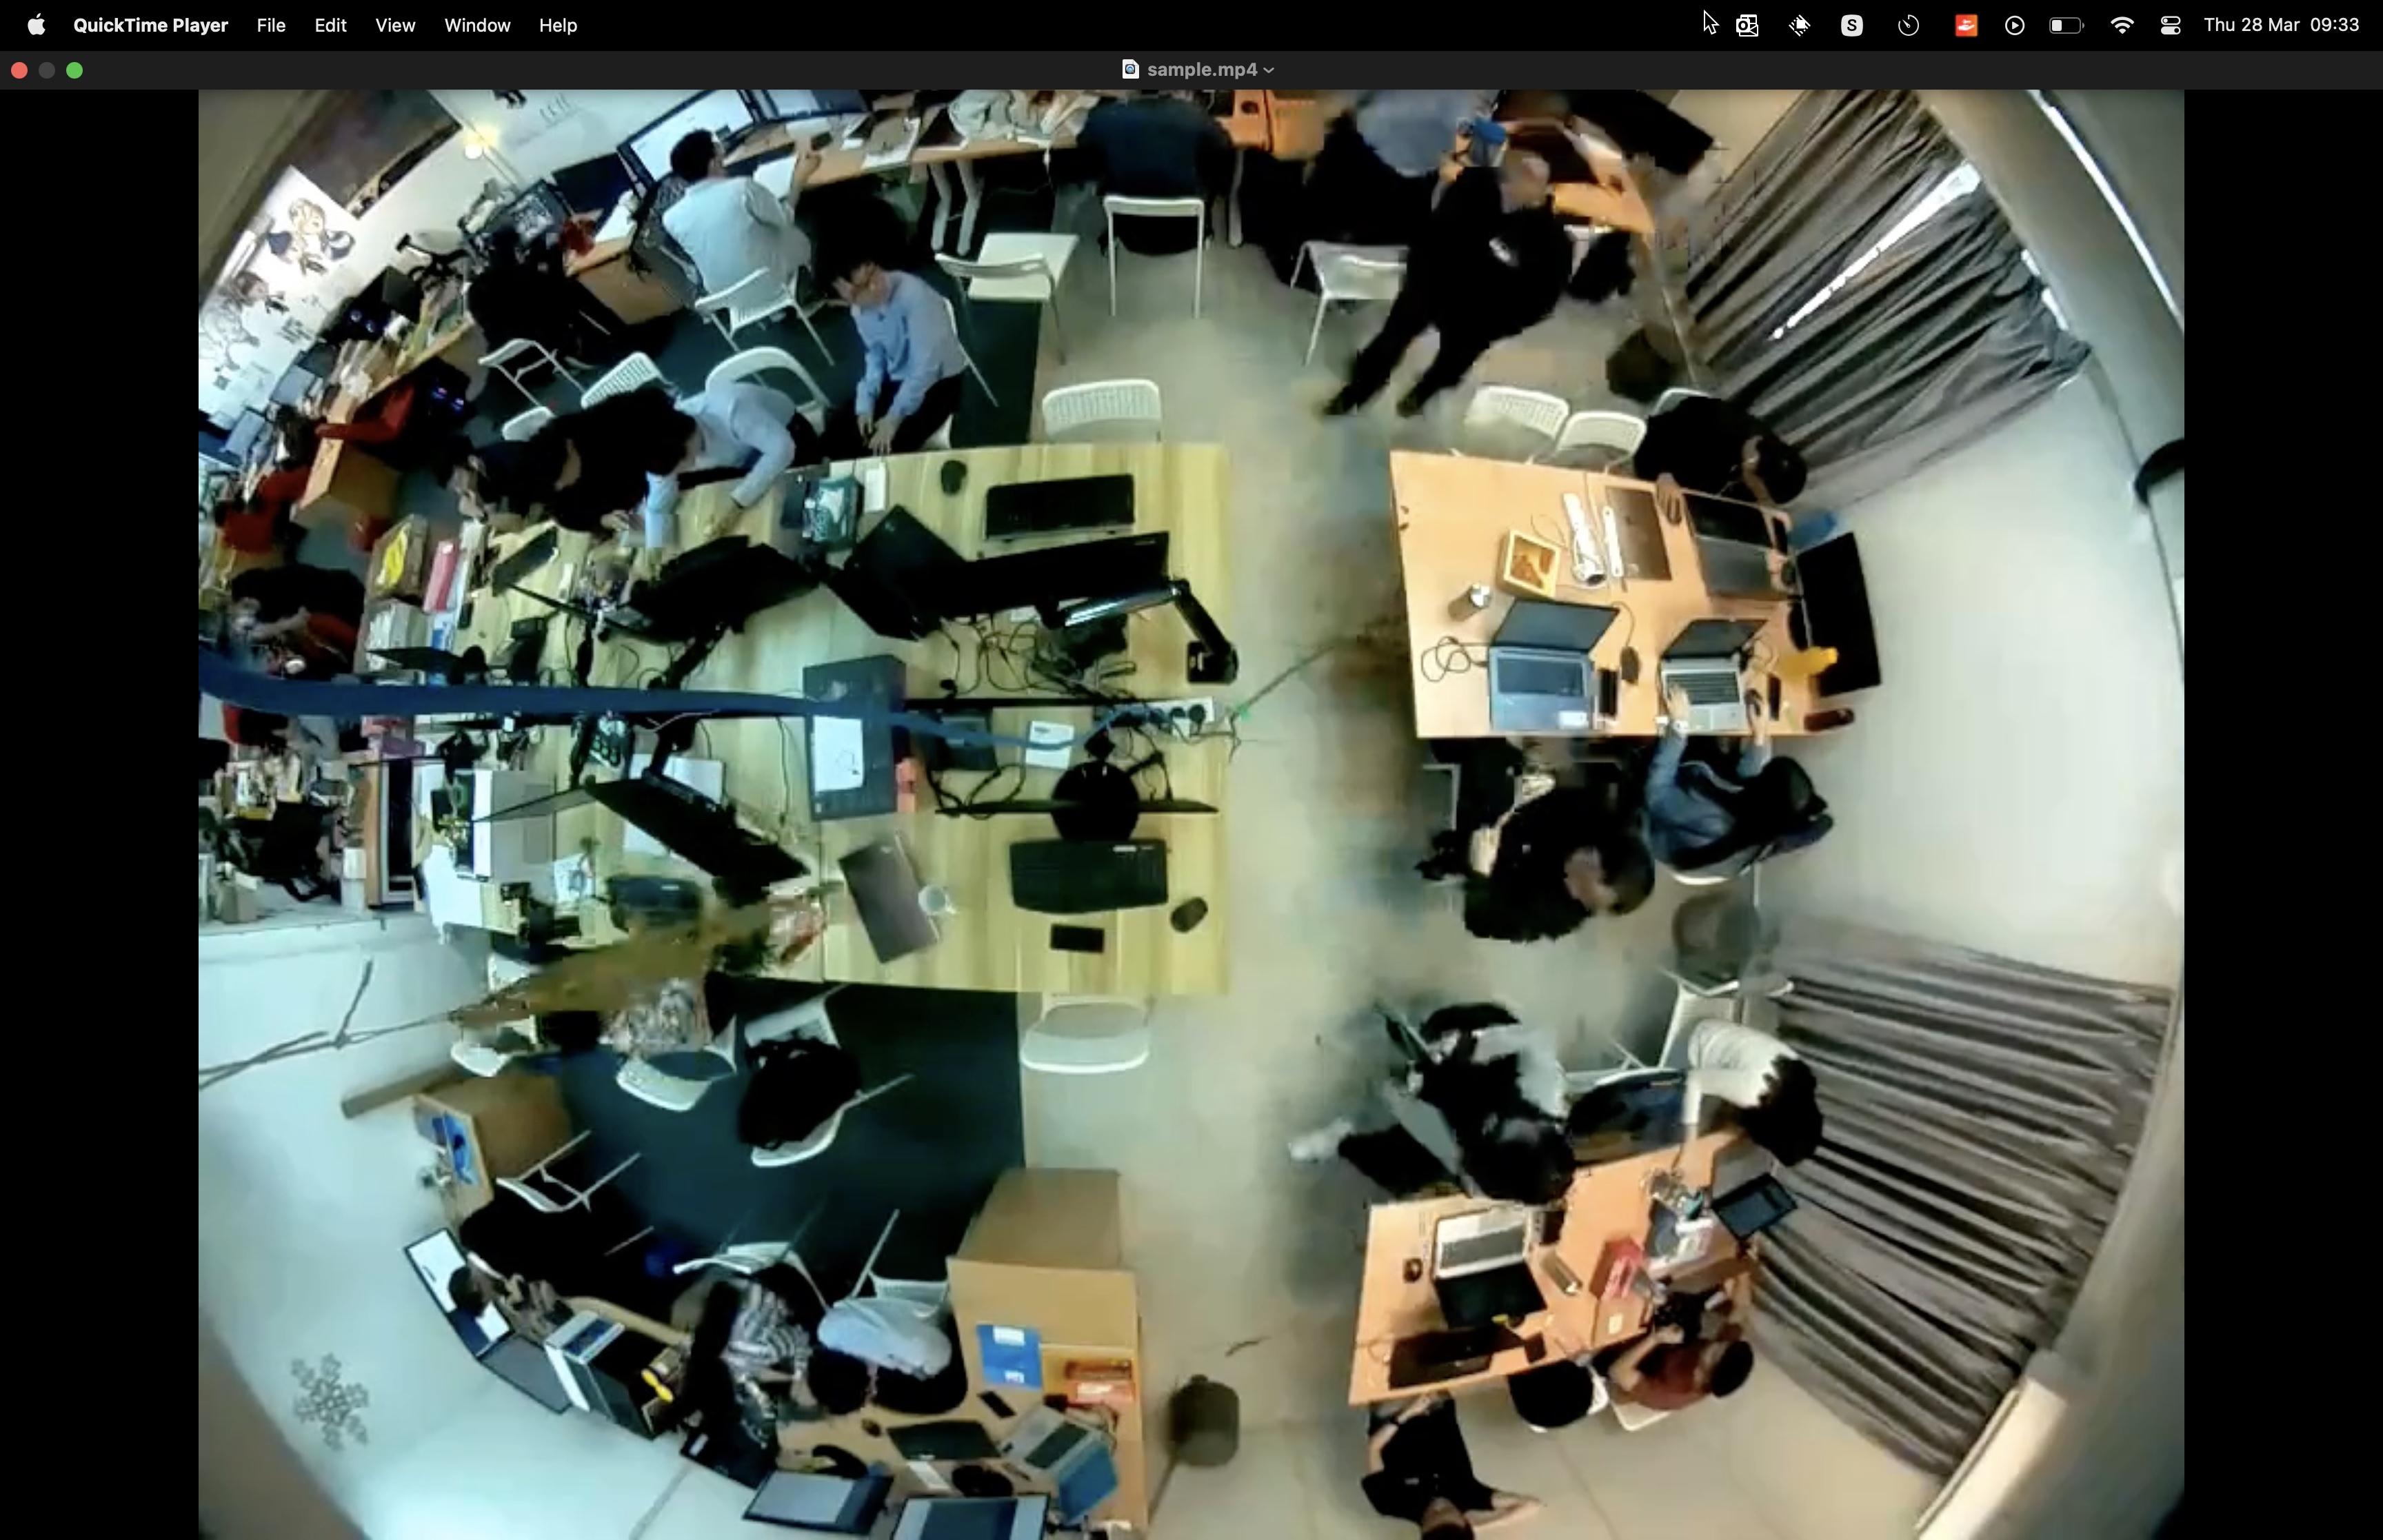Staff: (1336, 139, 1596, 418)
